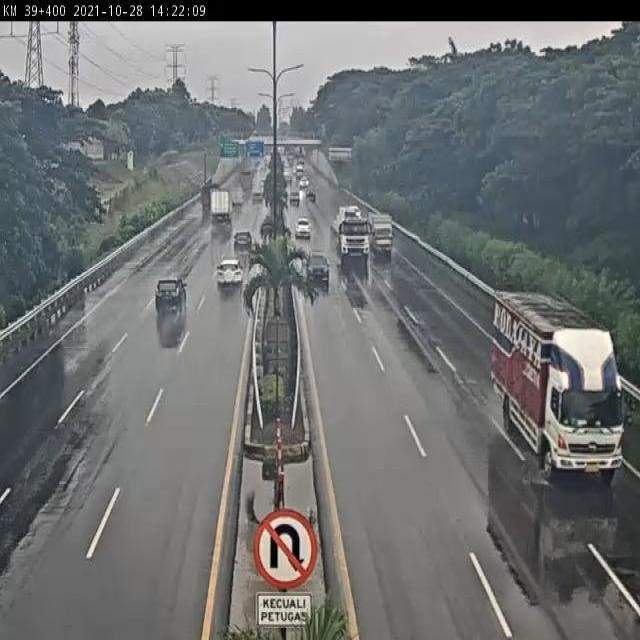car: (151, 272, 191, 317), (213, 254, 245, 294), (304, 247, 330, 281), (230, 228, 254, 257), (295, 215, 312, 237)
truck-l-: (490, 290, 629, 490), (209, 187, 235, 224)
truck-s-: (369, 208, 395, 260)
truck-xl-: (333, 204, 372, 264)
